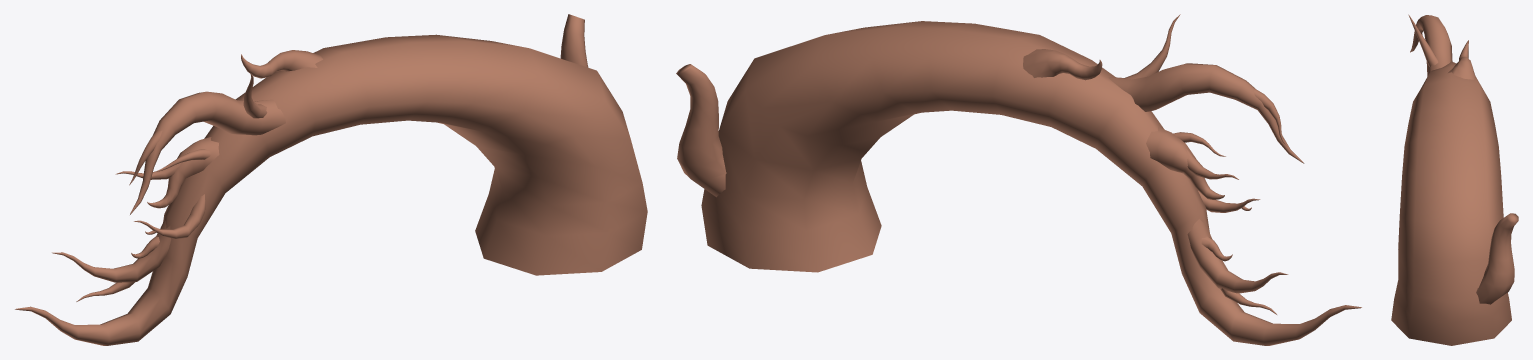
Rendered from Driftwood.fbx.
The picture shows the model from 3 angles, left to right: view 1: azimuth 30°, elevation 25°; view 2: azimuth 150°, elevation 25°; view 3: azimuth 270°, elevation 25°; orthographic projection. The views are drawn at different scales.
Visible parts, largest first — view 1: Root, Branch_2, Branch_5, Branch_3, Branch_1, Branch_cut, Branch_4; view 2: Root, Branch_2, Branch_cut, Branch_5, Branch_3, Branch_1, Branch_2.2; view 3: Root, Branch_cut, Branch_2, Branch_1, Branch_2.2.
Boxes of the visible parts, x1,y1,x2,y2 form: Root: (15,34,647,345); Branch_2: (130,91,285,214); Branch_5: (52,220,171,282); Branch_3: (147,137,219,208); Branch_1: (241,50,322,78); Branch_cut: (560,14,588,67); Branch_4: (134,194,205,239); Root: (701,21,1361,345); Branch_2: (1108,63,1304,163); Branch_cut: (676,64,726,197); Branch_5: (1187,217,1288,293); Branch_3: (1146,127,1224,199); Branch_1: (1023,49,1102,80); Branch_2.2: (1124,14,1180,79); Root: (1391,61,1511,345); Branch_cut: (1476,213,1518,304); Branch_2: (1410,15,1452,76); Branch_1: (1448,40,1476,79); Branch_2.2: (1408,14,1438,66).
Size of the model in its own units: 1076 by 448 by 271.
